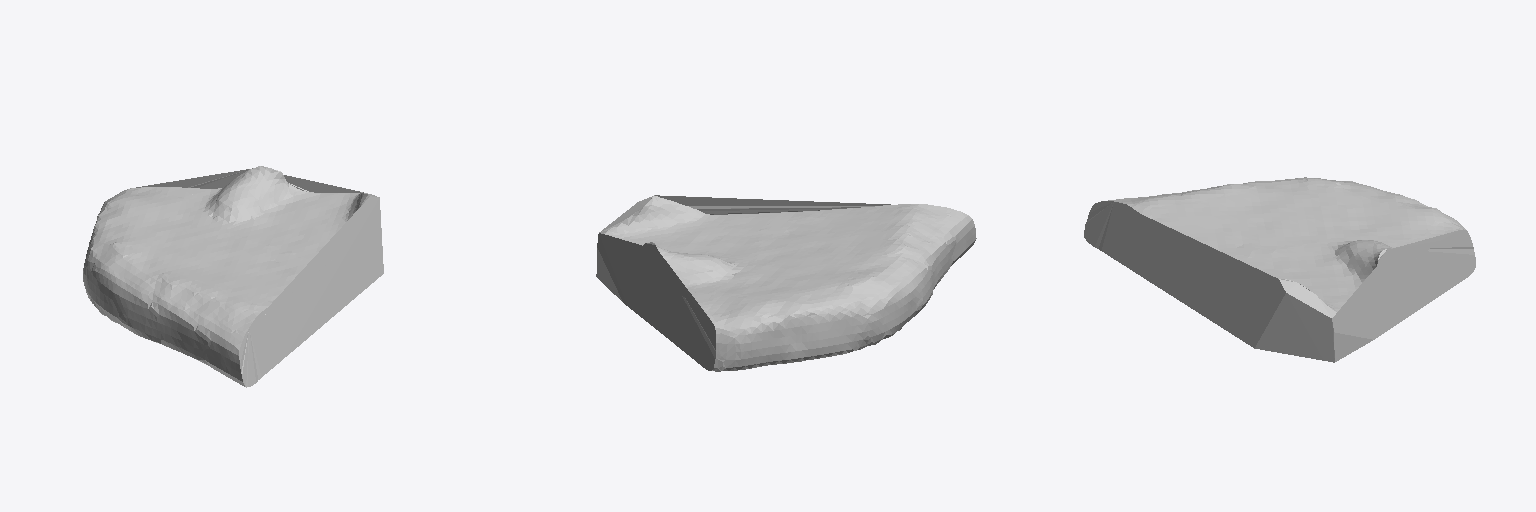
The model's file is low_cell_006.obj.
3 views of the same model, side by side, from view 1: azimuth 30°, elevation 25°; view 2: azimuth 150°, elevation 25°; view 3: azimuth 270°, elevation 25° (orthographic).
Parts seen in each view (by area): view 1: low_cell.006_low_cell.005; view 2: low_cell.006_low_cell.005; view 3: low_cell.006_low_cell.005.
Part boxes in pixels (bbox=[...]): low_cell.006_low_cell.005: bbox=[83, 166, 383, 387]; low_cell.006_low_cell.005: bbox=[596, 195, 976, 371]; low_cell.006_low_cell.005: bbox=[1084, 177, 1475, 362].
Bounding box in the file's own units: 0.7863 × 0.1898 × 0.9266.